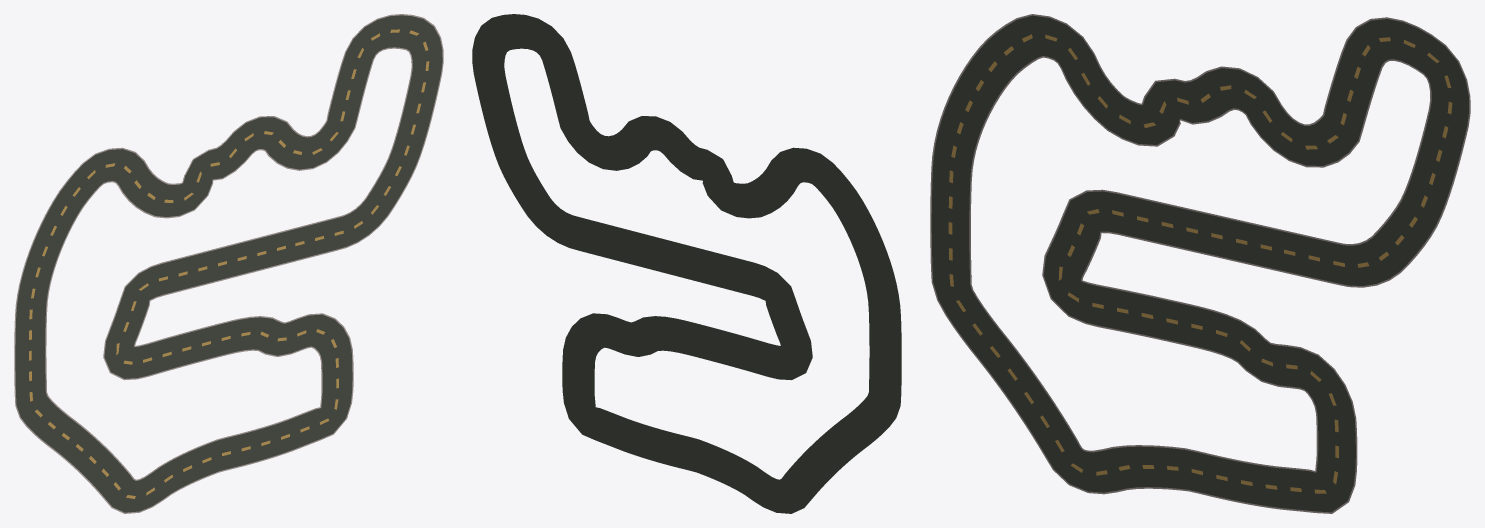
Rendered from track.obj.
3 views of the same model, side by side, from view 1: azimuth 30°, elevation 25°; view 2: azimuth 150°, elevation 25°; view 3: azimuth 330°, elevation 25° (orthographic). The views are drawn at different scales.
Bounding box in the file's own units: 14.2 × 13.8 × 0.002.
